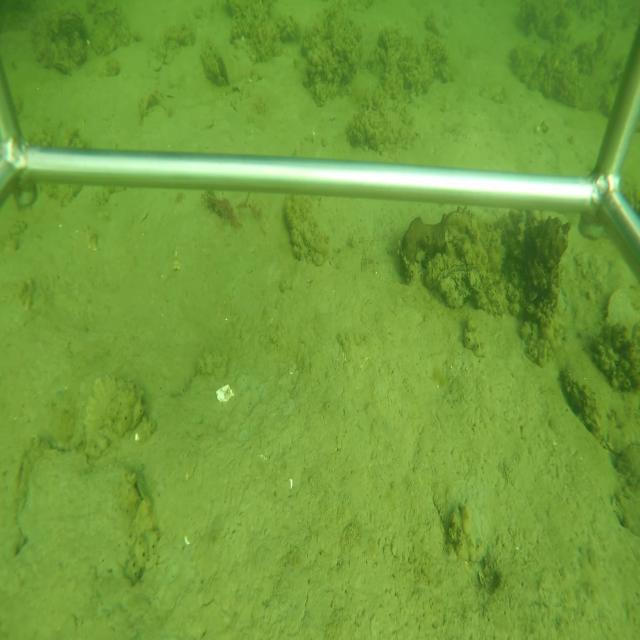Oyster-Closed: (556, 350, 639, 463), (435, 264, 484, 308)
Oyster-Open: (200, 37, 232, 92)
